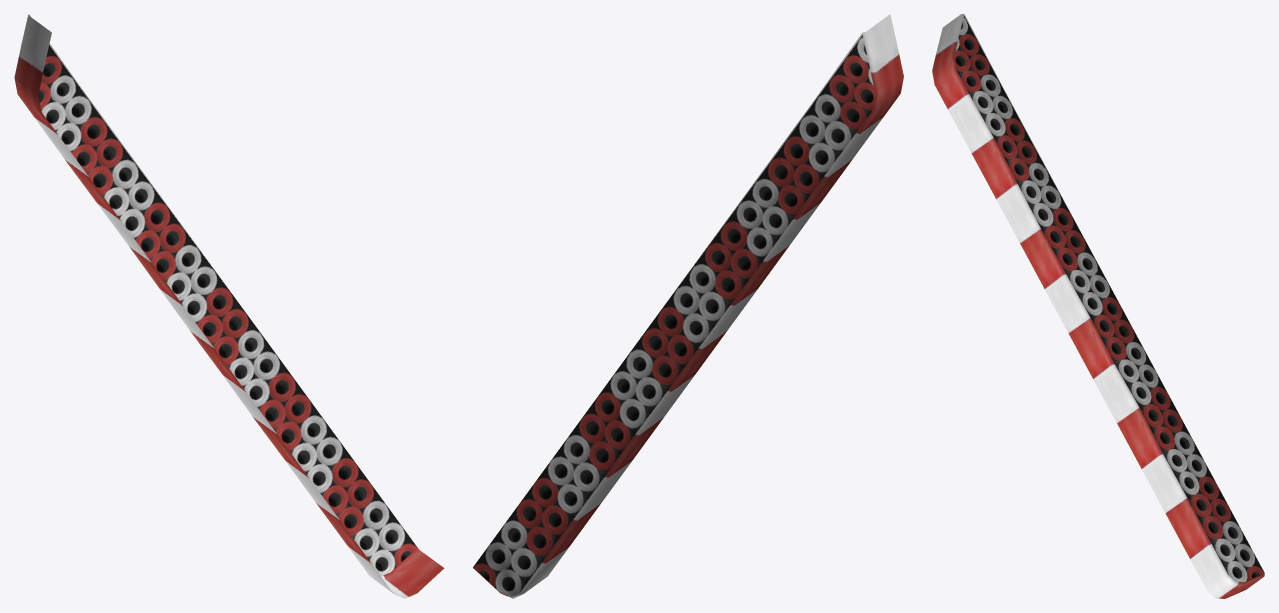
The model's file is _1WALL_tires01_02.obj.
3 views of the same model, side by side, from view 1: azimuth 30°, elevation 25°; view 2: azimuth 150°, elevation 25°; view 3: azimuth 330°, elevation 25° (orthographic). The views are drawn at different scales.
Visible parts, largest first — view 1: _1WALL_tires01_02_Scene.377; view 2: _1WALL_tires01_02_Scene.377; view 3: _1WALL_tires01_02_Scene.377.
Boxes of the visible parts, x1,y1,x2,y2 form: _1WALL_tires01_02_Scene.377: [14, 14, 444, 598]; _1WALL_tires01_02_Scene.377: [473, 14, 903, 598]; _1WALL_tires01_02_Scene.377: [932, 14, 1264, 598].
Size of the model in its own units: 1084 by 1664 by 124.
